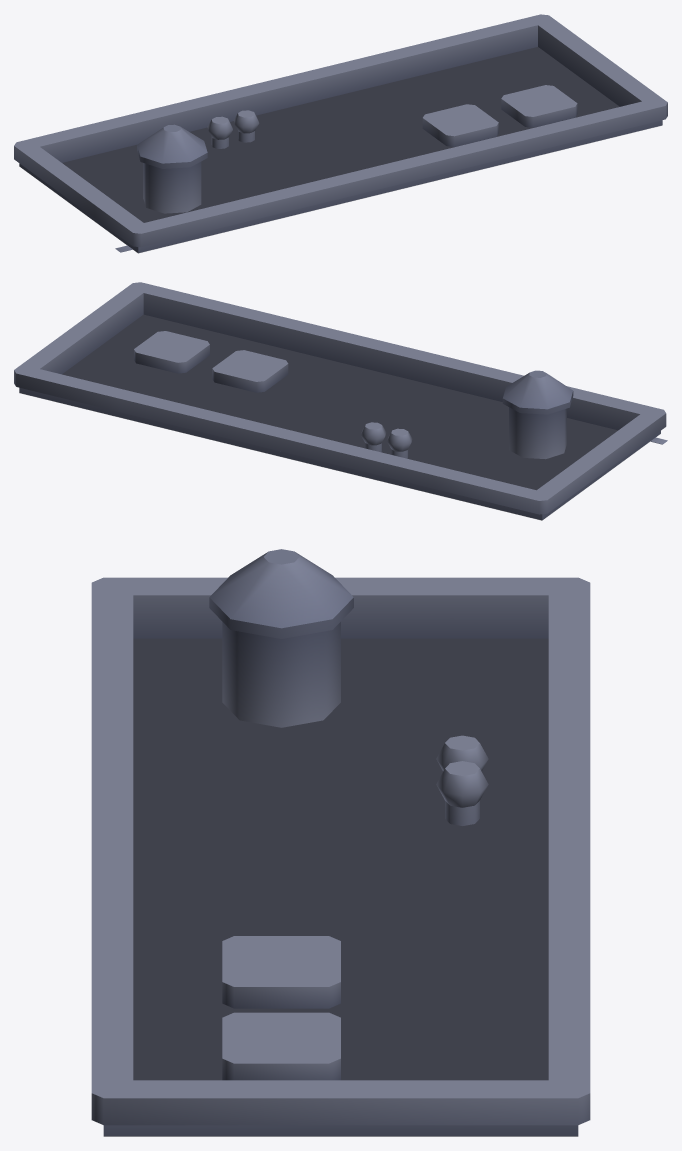
The model's file is commercial-k.glb.
The picture shows the model from 3 angles, top to bottom: view 1: azimuth 30°, elevation 25°; view 2: azimuth 150°, elevation 25°; view 3: azimuth 270°, elevation 25°; orthographic projection. The views are drawn at different scales.
Visible parts, largest first — view 1: building-k; view 2: building-k; view 3: building-k.
Part boxes in pixels (x1,y1,x2,y2): building-k: (14,14,667,253); building-k: (14,282,667,520); building-k: (91,549,590,1136).
Size of the model in its own units: 35.72 by 4.61 by 14.27.
1 material, 1 textured.
